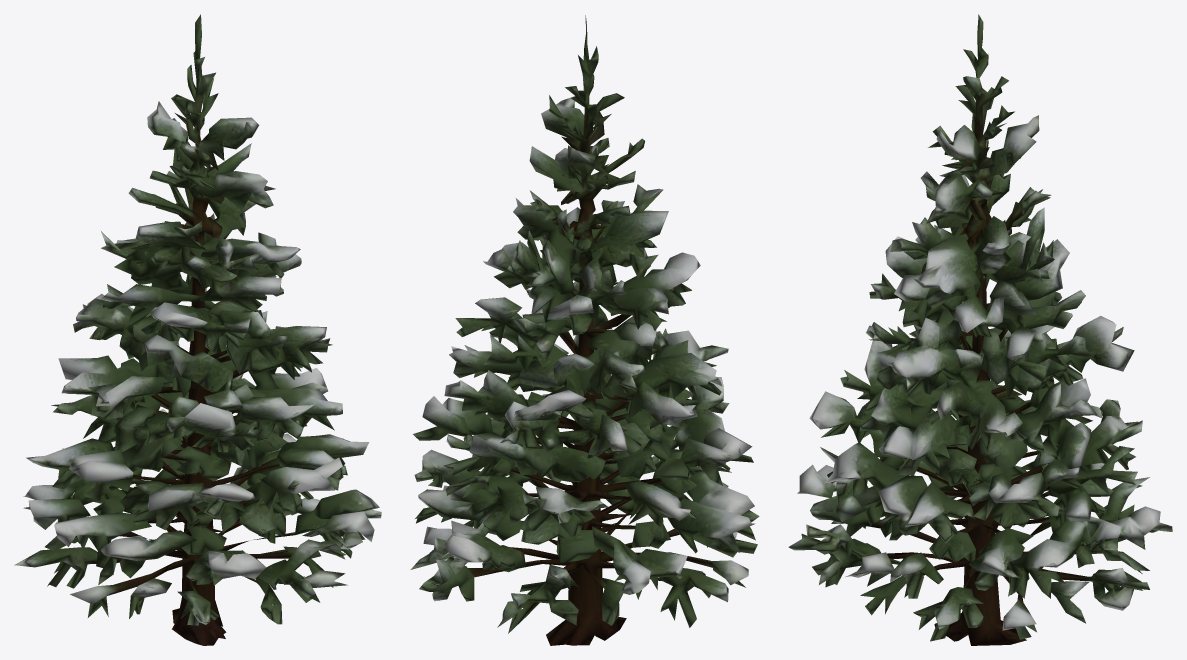
The model's file is pine_snow.glb.
3 renders of one model, left to right at view 1: azimuth 30°, elevation 25°; view 2: azimuth 150°, elevation 25°; view 3: azimuth 270°, elevation 25°, orthographic.
Visible parts, largest first — view 1: tripo_node_9382044c-0732-4a7a-a34c-80ad36615756; view 2: tripo_node_9382044c-0732-4a7a-a34c-80ad36615756; view 3: tripo_node_9382044c-0732-4a7a-a34c-80ad36615756.
Part boxes in pixels (x1,y1,x2,y2): tripo_node_9382044c-0732-4a7a-a34c-80ad36615756: (14,14,381,645); tripo_node_9382044c-0732-4a7a-a34c-80ad36615756: (410,15,759,645); tripo_node_9382044c-0732-4a7a-a34c-80ad36615756: (788,14,1172,645).
Size of the model in its own units: 0.5528 by 1 by 0.5594.
Materials: 1 (1 with a texture image).
